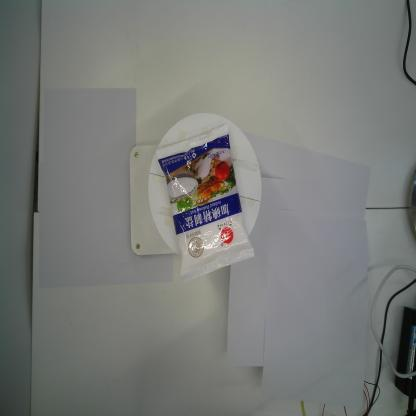Seasoner: (154, 121, 255, 285)
